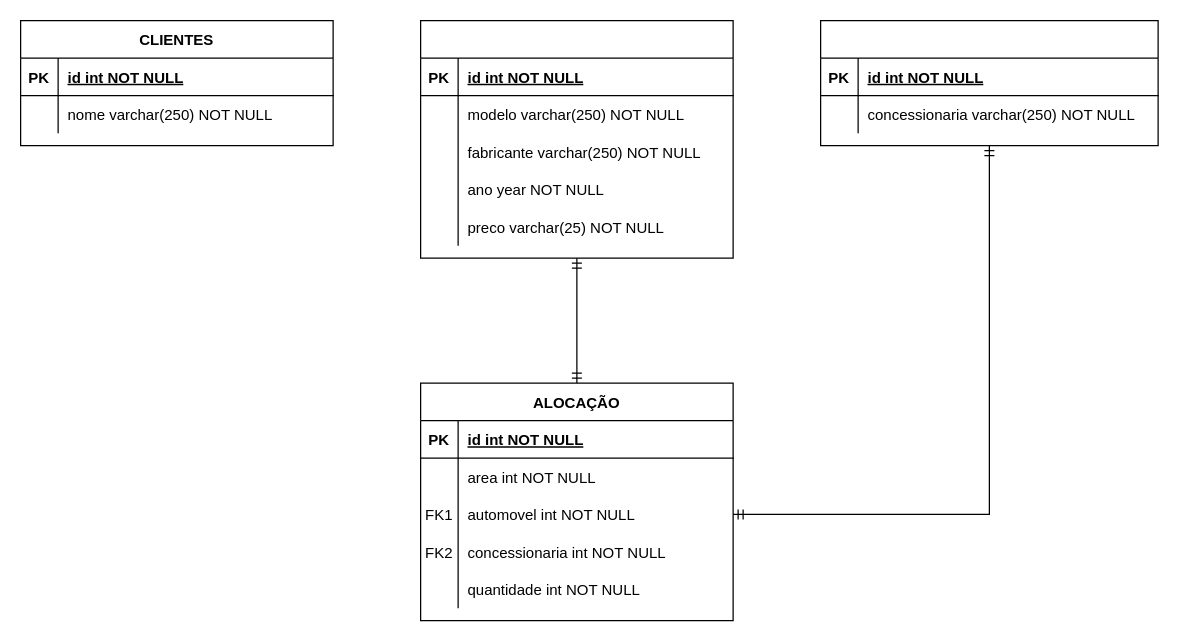
Some shapes in this 1179 by 641 pixel diagram are drawn without their labels. The box of each missing label's shape, as (x1, y1, x2, y2) in pixels:
AUTOMÓVEIS: (419, 19, 733, 258)
CONCESSIONARIAS: (819, 19, 1158, 146)
